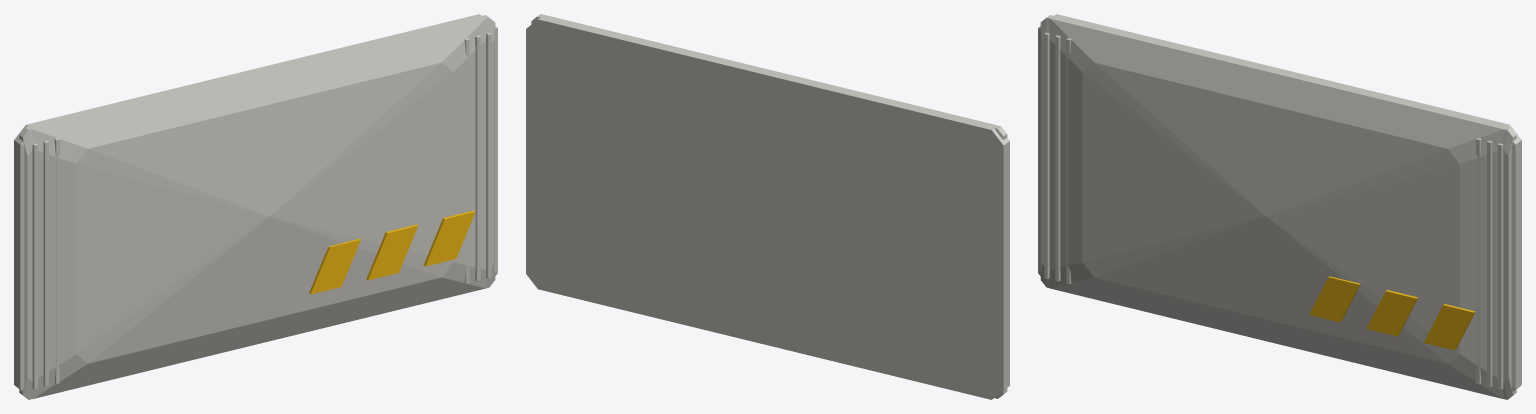
The model's file is 11_sealant_patch_packet.fbx.
3 views of the same model, side by side, from view 1: azimuth 30°, elevation 25°; view 2: azimuth 150°, elevation 25°; view 3: azimuth 330°, elevation 25° (orthographic).
Visible parts, largest first — view 1: 11_sealant_patch_packet; view 2: 11_sealant_patch_packet; view 3: 11_sealant_patch_packet.
Boxes of the visible parts, <box> form: 11_sealant_patch_packet: <box>14,14,497,399</box>; 11_sealant_patch_packet: <box>526,14,1009,399</box>; 11_sealant_patch_packet: <box>1038,14,1521,399</box>.
Bounding box in the file's own units: 9 × 4.86 × 0.549.
